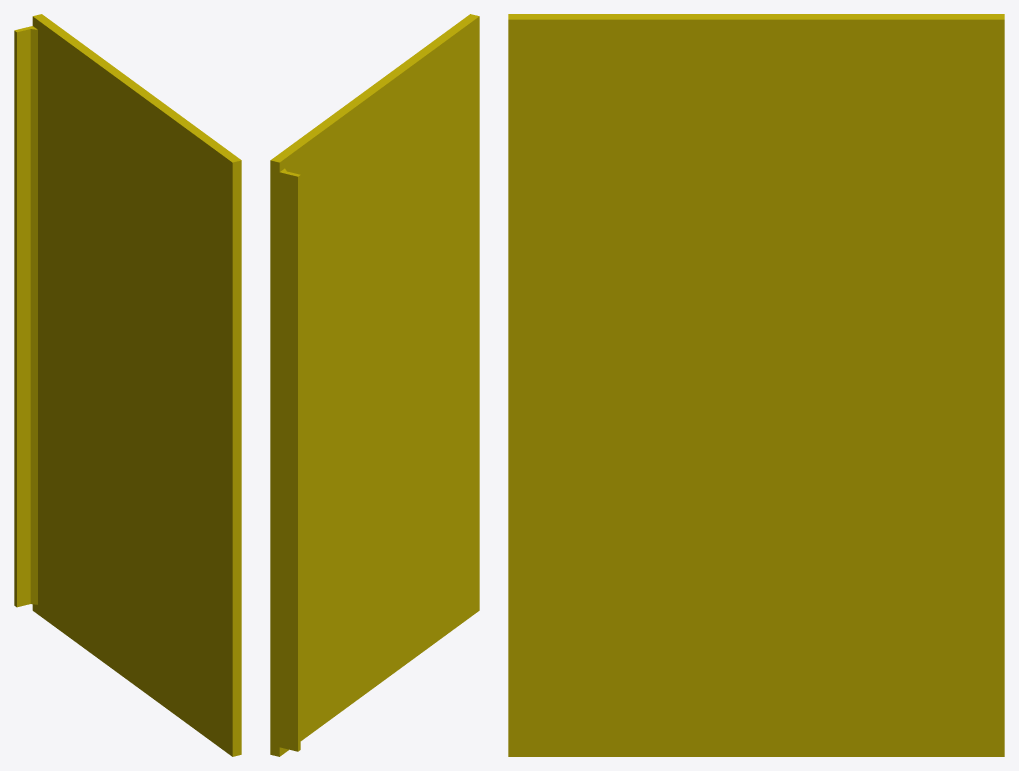
File: door_manual_sliding_3x5_dynamic.dae
The picture shows the model from 3 angles, left to right: view 1: azimuth 30°, elevation 25°; view 2: azimuth 150°, elevation 25°; view 3: azimuth 270°, elevation 25°; orthographic projection. The views are drawn at different scales.
Parts seen in each view (by area): view 1: Cube; view 2: Cube; view 3: Cube.
Part boxes in pixels (x1=…): Cube: x1=14, y1=14, x2=241, y2=756; Cube: x1=270, y1=14, x2=479, y2=756; Cube: x1=508, y1=14, x2=1004, y2=756.
Size of the model in its own units: 0.06 by 0.75 by 1.23.
